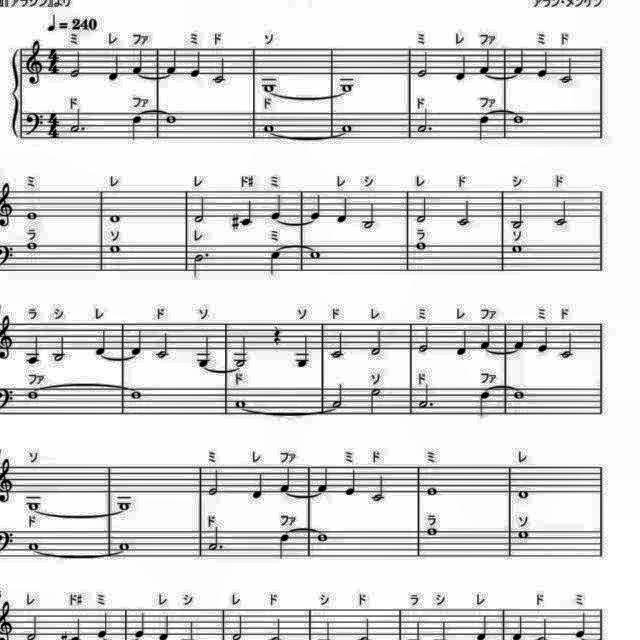Bass-clef: (24, 109, 46, 139)
Diez: (230, 210, 242, 233)
Full-note: (21, 383, 41, 405), (338, 76, 358, 94), (114, 496, 132, 512), (22, 238, 40, 254), (24, 497, 44, 511), (511, 111, 527, 125), (314, 530, 330, 544), (516, 488, 532, 502), (308, 247, 324, 261), (24, 209, 40, 223), (26, 538, 42, 552), (116, 538, 132, 552), (510, 388, 528, 400), (106, 212, 124, 224), (261, 80, 279, 92), (424, 486, 441, 498), (424, 526, 441, 538), (510, 242, 526, 254), (128, 388, 144, 400), (340, 123, 356, 135), (414, 240, 430, 252), (516, 528, 532, 540), (164, 113, 180, 125), (107, 242, 123, 254), (234, 396, 248, 408), (262, 124, 278, 134)
Half-dot: (190, 250, 212, 282), (206, 524, 226, 552), (417, 382, 435, 410), (68, 108, 86, 136), (416, 108, 434, 136)
Half-note: (229, 334, 249, 368), (329, 381, 347, 412), (155, 331, 173, 362), (558, 331, 576, 361), (370, 473, 388, 503), (51, 335, 69, 365), (455, 199, 473, 229), (553, 198, 571, 228), (210, 55, 228, 85), (330, 330, 348, 360), (206, 466, 222, 498), (370, 326, 386, 358), (359, 202, 377, 230), (368, 387, 384, 418), (68, 50, 84, 80), (416, 49, 432, 79), (415, 195, 431, 225), (192, 195, 208, 225), (559, 55, 575, 85), (508, 200, 524, 230), (231, 612, 247, 640), (418, 325, 432, 355)
Quarter-note: (294, 334, 314, 371), (24, 333, 44, 367), (194, 334, 213, 366), (571, 608, 589, 640), (268, 191, 286, 221), (90, 329, 108, 358), (106, 51, 122, 83), (534, 325, 550, 355), (534, 51, 550, 81), (336, 196, 352, 226), (250, 471, 266, 501), (512, 322, 528, 352), (130, 328, 146, 358), (454, 327, 470, 357), (306, 193, 322, 223), (132, 610, 148, 640), (278, 464, 294, 494), (240, 198, 256, 228), (276, 531, 292, 561), (478, 391, 494, 421), (96, 611, 112, 640), (130, 48, 146, 76), (478, 48, 494, 76), (512, 48, 528, 76), (454, 53, 468, 85), (316, 464, 330, 496), (268, 250, 284, 278), (344, 467, 358, 498), (188, 51, 202, 81), (480, 324, 494, 352), (166, 48, 180, 76), (130, 116, 144, 144), (478, 114, 492, 142)
Quarter-rest: (270, 324, 286, 348)
Treble-clef: (26, 39, 46, 89)
